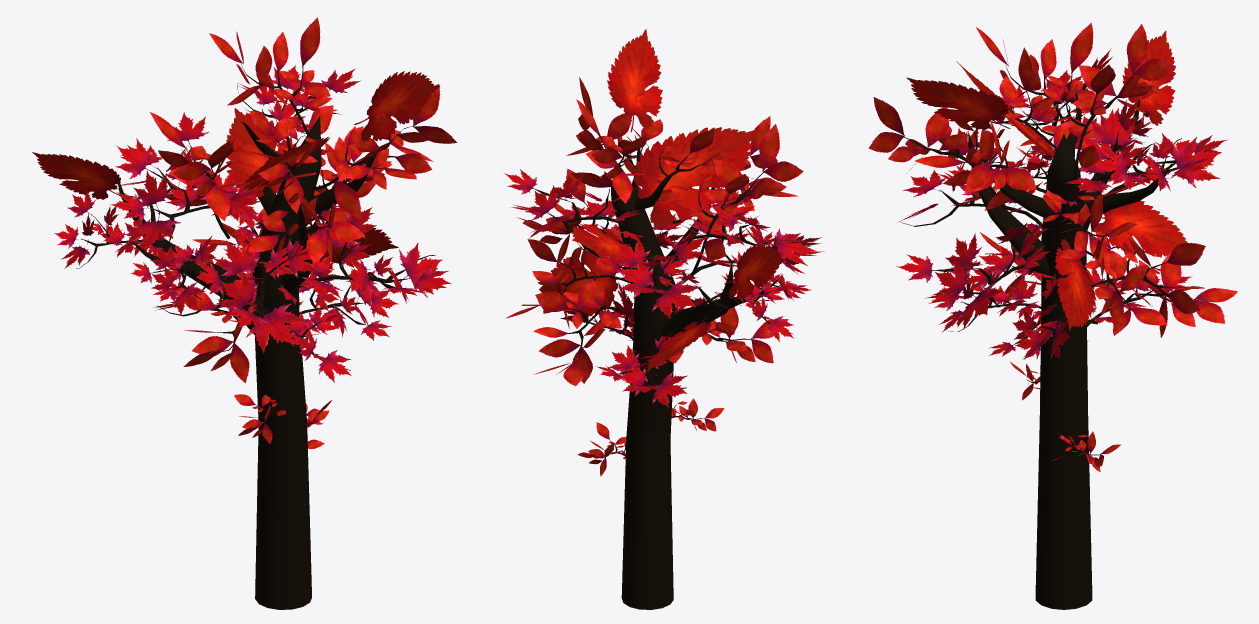
File: redtree10.fbx
The picture shows the model from 3 angles, left to right: view 1: azimuth 30°, elevation 25°; view 2: azimuth 150°, elevation 25°; view 3: azimuth 270°, elevation 25°; orthographic projection. The views are drawn at different scales.
Visible parts, largest first — view 1: purpletrees:pCylinder171; view 2: purpletrees:pCylinder171; view 3: purpletrees:pCylinder171.
Boxes of the visible parts, left/top/right/bottom form: purpletrees:pCylinder171: left=32, top=17, right=457, bottom=609; purpletrees:pCylinder171: left=504, top=29, right=824, bottom=609; purpletrees:pCylinder171: left=868, top=22, right=1237, bottom=609.
Size of the model in its own units: 28.18 by 45.28 by 27.01.
